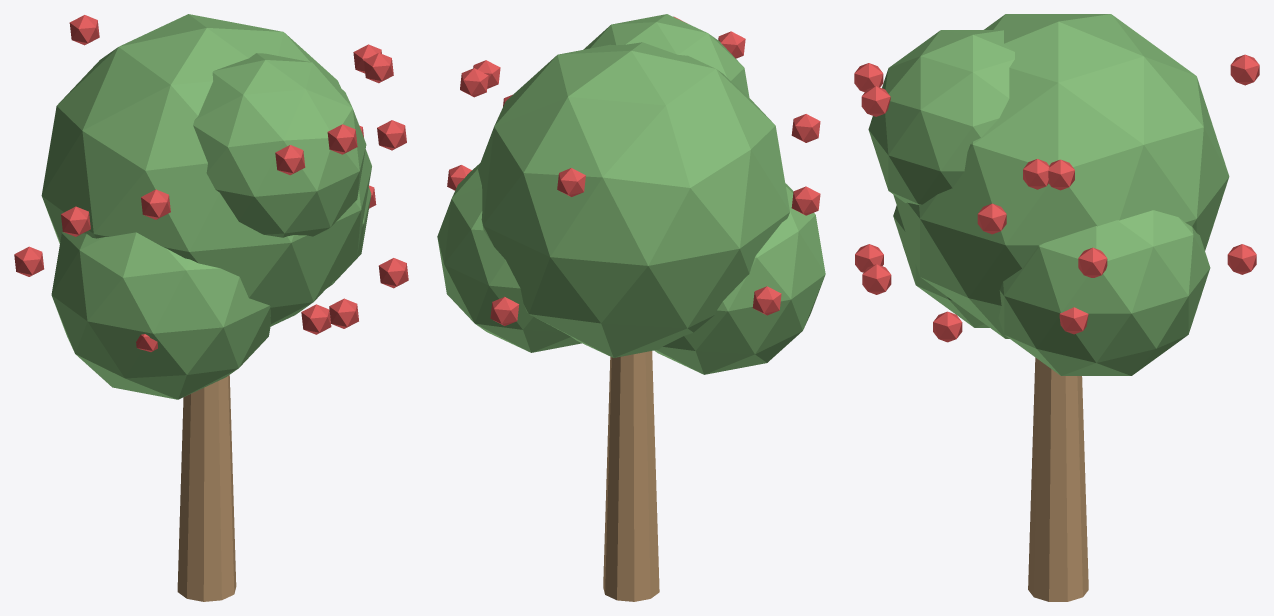
File: HOB_Tree_Fruit.fbx
3 views of the same model, side by side, from view 1: azimuth 30°, elevation 25°; view 2: azimuth 150°, elevation 25°; view 3: azimuth 270°, elevation 25° (orthographic). The views are drawn at different scales.
Parts seen in each view (by area): view 1: HOB_Tree_Fruit; view 2: HOB_Tree_Fruit; view 3: HOB_Tree_Fruit.
Boxes of the visible parts, <box> form: HOB_Tree_Fruit: <box>14,14,408,601</box>; HOB_Tree_Fruit: <box>437,14,825,601</box>; HOB_Tree_Fruit: <box>854,14,1259,601</box>.
Bounding box in the file's own units: 214 × 330 × 213.
